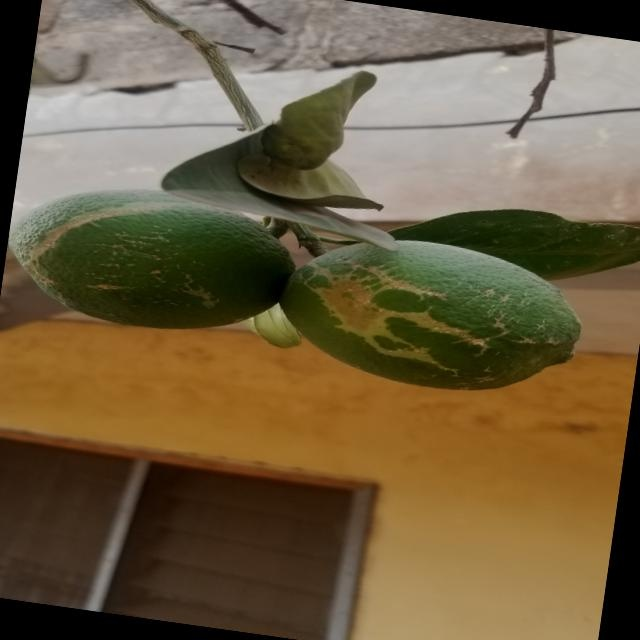agrume: (270, 227, 597, 413), (1, 171, 295, 348)
